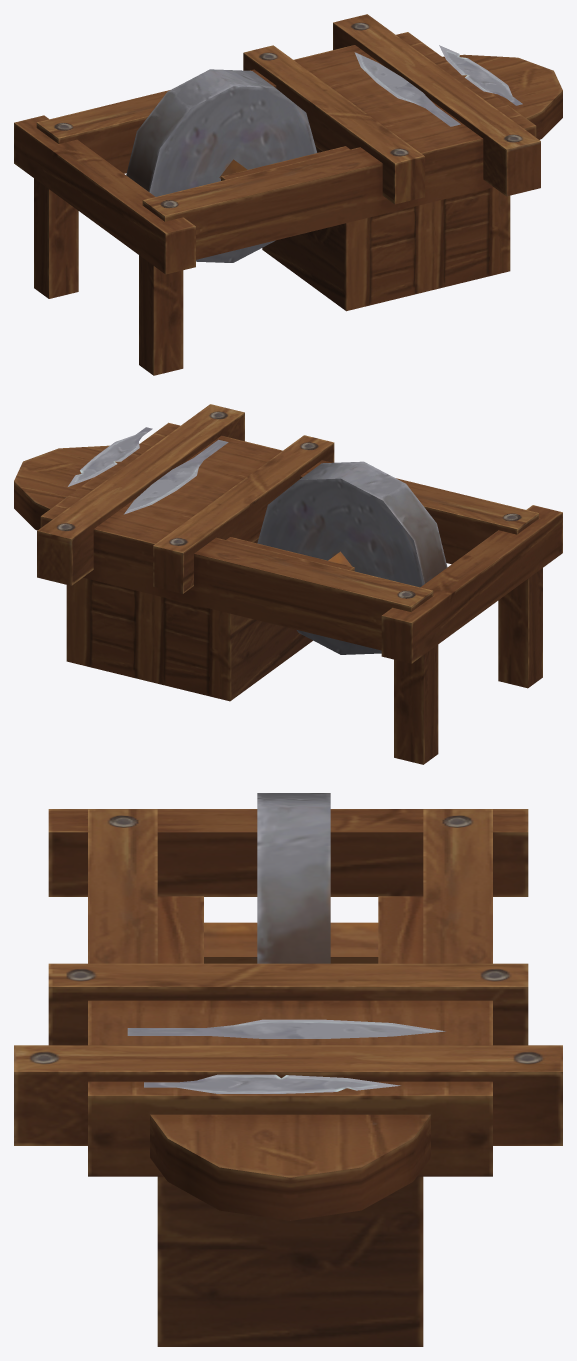
Rendered from Stage_DiXiaCheng_ShiNian.FBX.
The picture shows the model from 3 angles, top to bottom: view 1: azimuth 30°, elevation 25°; view 2: azimuth 150°, elevation 25°; view 3: azimuth 270°, elevation 25°; orthographic projection. The views are drawn at different scales.
Parts seen in each view (by area): view 1: Stage_DiXiaCheng_ShiNian; view 2: Stage_DiXiaCheng_ShiNian; view 3: Stage_DiXiaCheng_ShiNian.
Part boxes in pixels (left/top/right/bottom): Stage_DiXiaCheng_ShiNian: left=14, top=14, right=562, bottom=375; Stage_DiXiaCheng_ShiNian: left=14, top=404, right=562, bottom=764; Stage_DiXiaCheng_ShiNian: left=14, top=793, right=562, bottom=1346.
Bounding box in the file's own units: 330 × 151 × 214.
